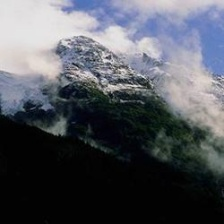neutral: (2, 17, 223, 224)
